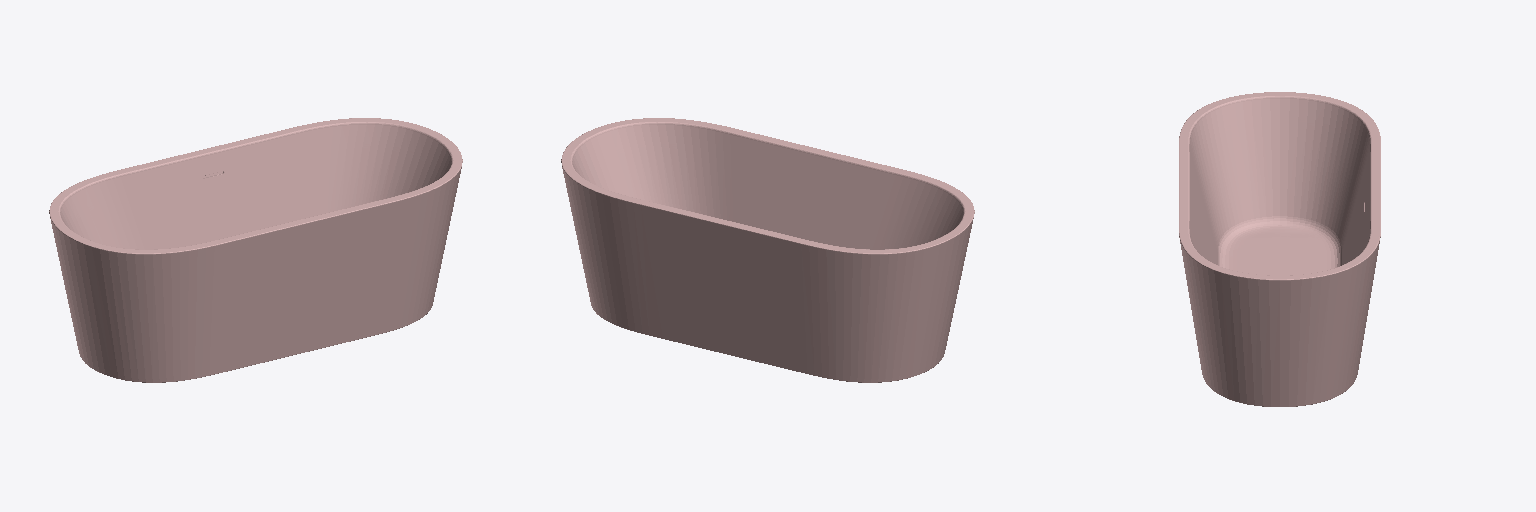
File: bath_01.obj
The picture shows the model from 3 angles: view 1: azimuth 30°, elevation 25°; view 2: azimuth 150°, elevation 25°; view 3: azimuth 270°, elevation 25°; orthographic projection.
Bounding box in the file's own units: 1621 × 565 × 738.